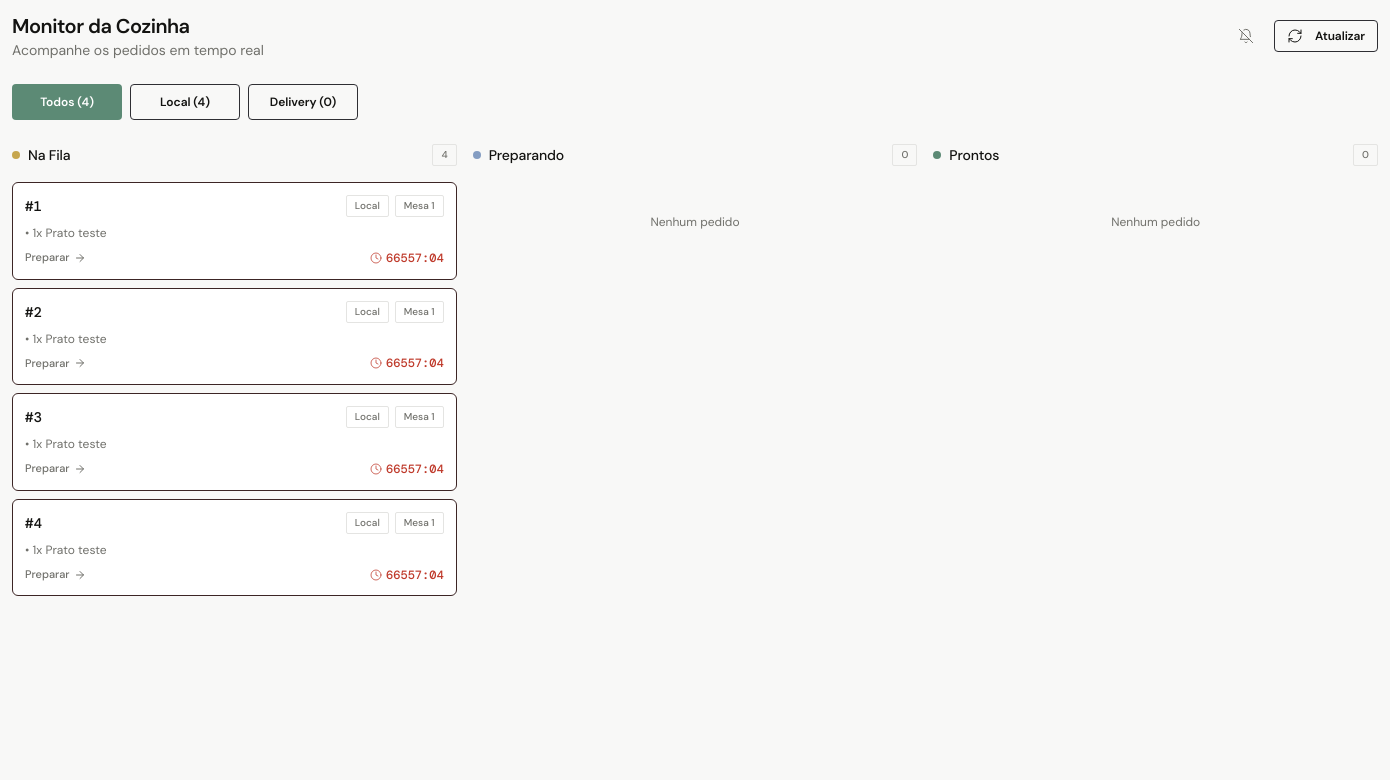
kitchen timeout and visibility characterization (no production network) › keeps four orders through a stalled fetch deadline while hidden, then resyncs without applying late data
Expected: the text "#1" is shown, [25, 196, 42, 216]
Expected: the text "#2" is shown, [25, 302, 42, 322]
Step 1. Click the button "Atualizar" → click(1326, 36), box [1274, 20, 1378, 52]
Wait 15000 ms
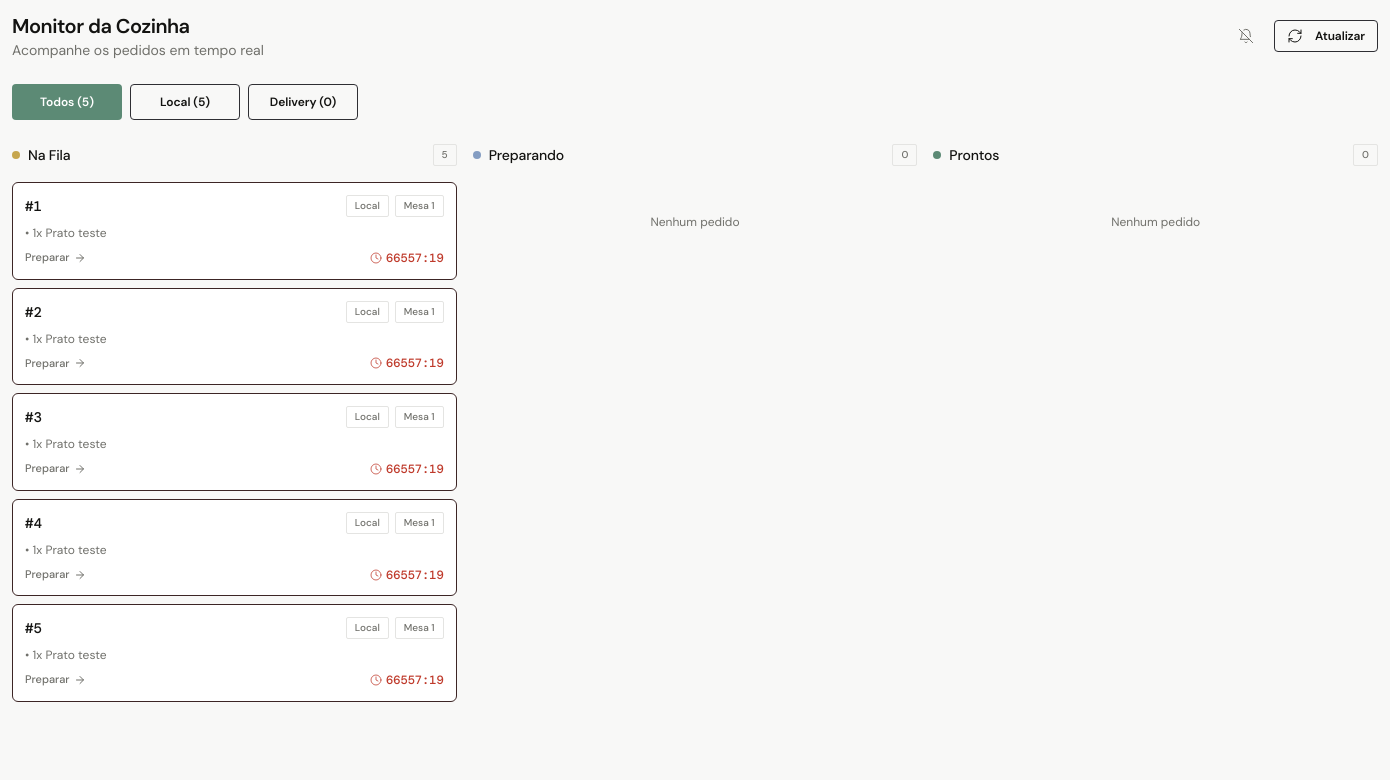
Expected: the text "#1" is shown, [25, 196, 42, 216]
Now the text "#5" is shown, box [25, 618, 42, 638]
